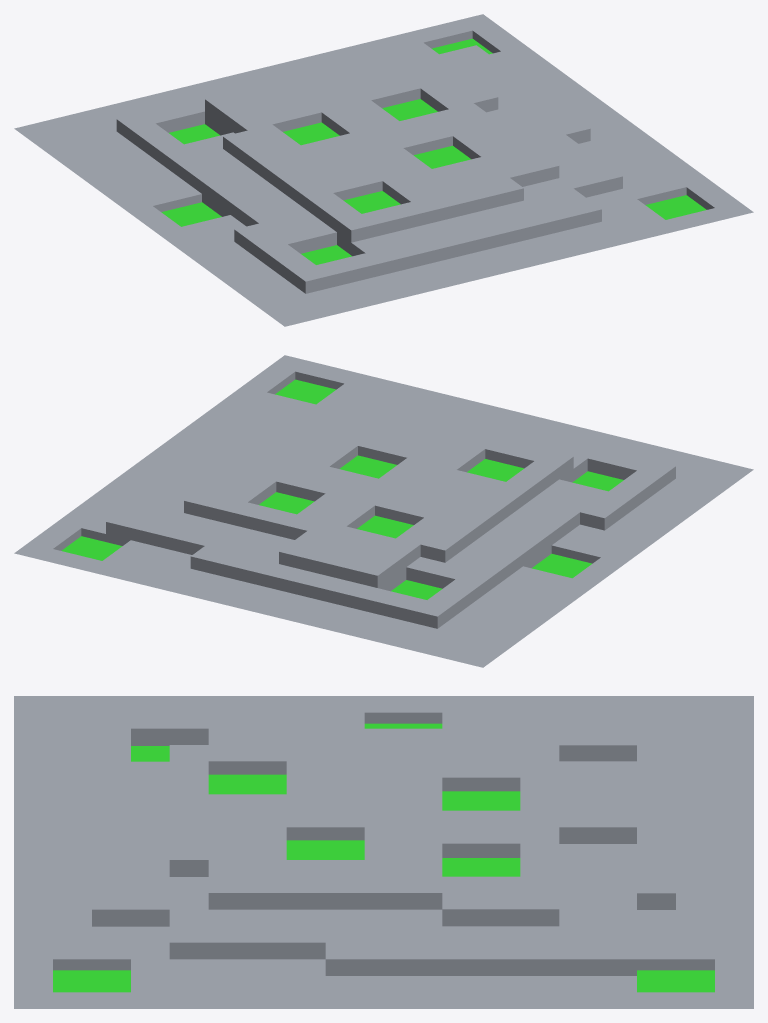
File: ground2.fbx
3 views of the same model, one above another, from view 1: azimuth 30°, elevation 25°; view 2: azimuth 150°, elevation 25°; view 3: azimuth 270°, elevation 25° (orthographic). The views are drawn at different scales.
Parts seen in each view (by area): view 1: Grid; view 2: Grid; view 3: Grid.
Part boxes in pixels (x1,y1,x2,y2): Grid: (14,14,753,326); Grid: (14,355,753,667); Grid: (14,696,753,1008).
Size of the model in its own units: 200 by 13.34 by 200.
